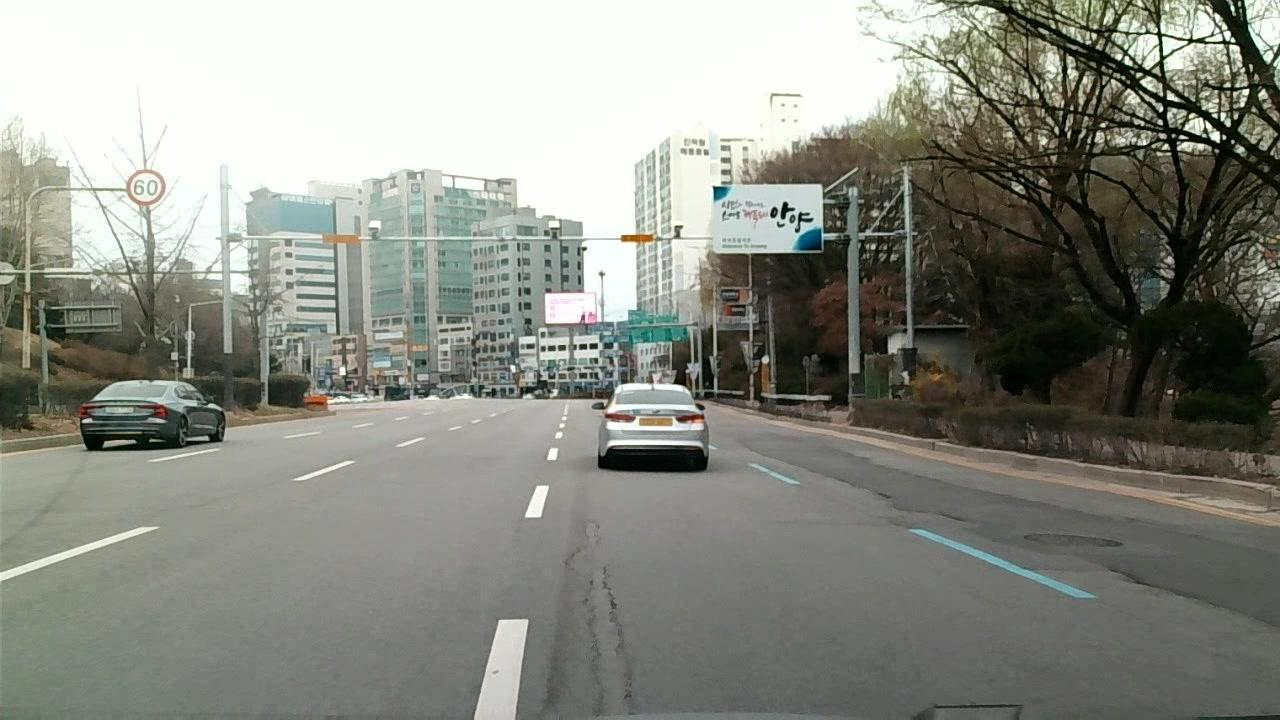vcrack: (566, 513, 638, 720), (1101, 558, 1272, 625), (783, 454, 889, 495), (897, 501, 962, 523)
